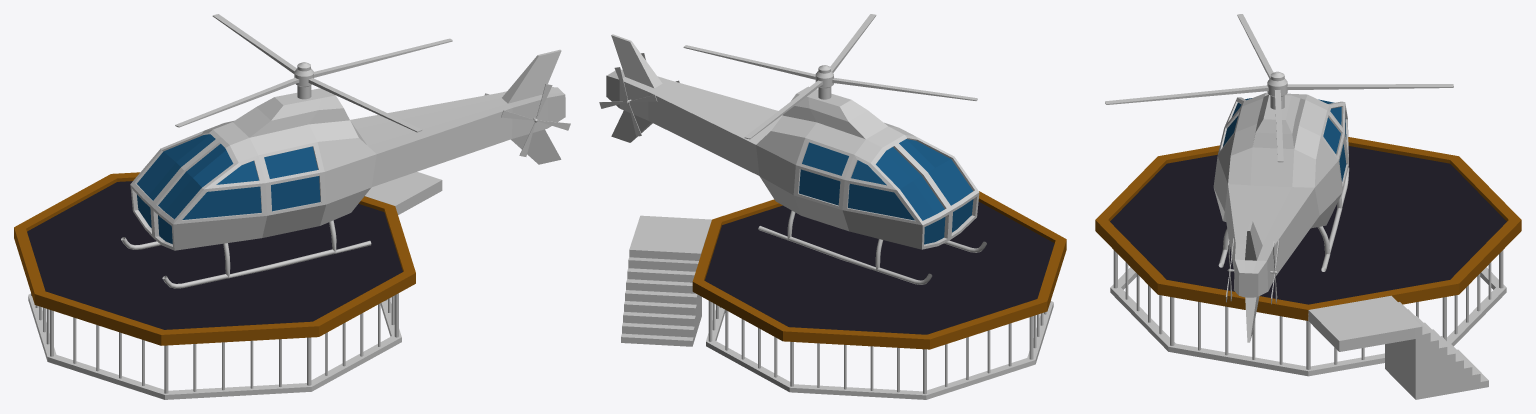
Rendered from copter_000196.obj.
3 renders of one model, left to right at view 1: azimuth 30°, elevation 25°; view 2: azimuth 150°, elevation 25°; view 3: azimuth 270°, elevation 25°, orthographic. The views are drawn at different scales.
Visible parts, largest first — view 1: Cylinder.001_Cylinder.012, Helicopter.007_Cylinder.008, Helicopter.001_Cylinder.001, Cylinder.004, Cylinder.003_Cylinder.005, Cylinder.002, Helicopter.003_Cylinder.004; view 2: Cylinder.001_Cylinder.012, Helicopter.007_Cylinder.008, Helicopter.001_Cylinder.001, Cylinder.004, Cylinder.003_Cylinder.005, Cylinder.002, Helicopter.004_Cylinder.005; view 3: Cylinder.001_Cylinder.012, Helicopter.007_Cylinder.008, Helicopter.001_Cylinder.001, Cylinder.004, Cylinder.002, Cylinder.003_Cylinder.005.
Boxes of the visible parts, x1=… form: Cylinder.001_Cylinder.012: x1=14, y1=172, x2=442, y2=399; Helicopter.007_Cylinder.008: x1=121, y1=49, x2=565, y2=288; Helicopter.001_Cylinder.001: x1=175, y1=14, x2=452, y2=132; Cylinder.004: x1=193, y1=303, x2=380, y2=391; Cylinder.003_Cylinder.005: x1=35, y1=295, x2=394, y2=385; Cylinder.002: x1=31, y1=293, x2=398, y2=393; Helicopter.003_Cylinder.004: x1=501, y1=84, x2=570, y2=156; Cylinder.001_Cylinder.012: x1=621, y1=191, x2=1066, y2=399; Helicopter.007_Cylinder.008: x1=606, y1=34, x2=986, y2=284; Helicopter.001_Cylinder.001: x1=683, y1=14, x2=977, y2=139; Cylinder.004: x1=725, y1=310, x2=899, y2=392; Cylinder.003_Cylinder.005: x1=712, y1=303, x2=1046, y2=386; Cylinder.002: x1=708, y1=301, x2=1050, y2=394; Helicopter.004_Cylinder.005: x1=599, y1=67, x2=657, y2=136; Cylinder.001_Cylinder.012: x1=1095, y1=137, x2=1521, y2=399; Helicopter.007_Cylinder.008: x1=1213, y1=92, x2=1349, y2=342; Helicopter.001_Cylinder.001: x1=1105, y1=14, x2=1453, y2=162; Cylinder.004: x1=1125, y1=262, x2=1491, y2=334; Cylinder.002: x1=1113, y1=250, x2=1503, y2=369; Cylinder.003_Cylinder.005: x1=1198, y1=302, x2=1418, y2=364.
Bounding box in the file's own units: 9.39 × 4.51 × 6.77.
